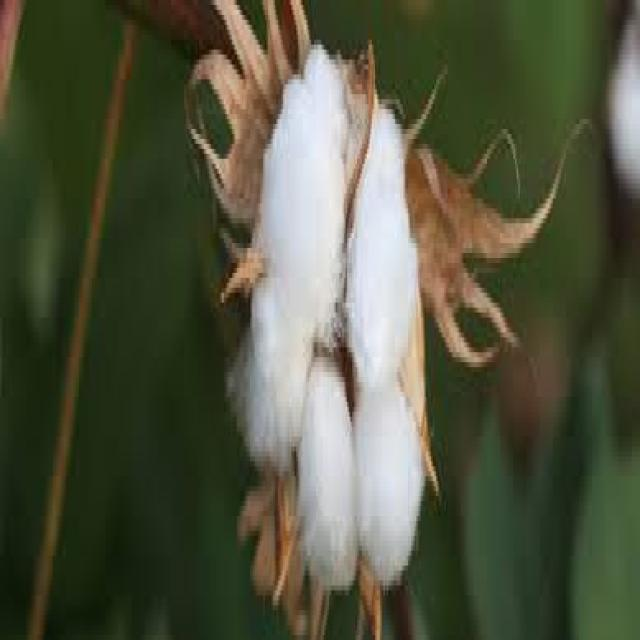Matured Cotton Boll: (240, 45, 426, 603)
